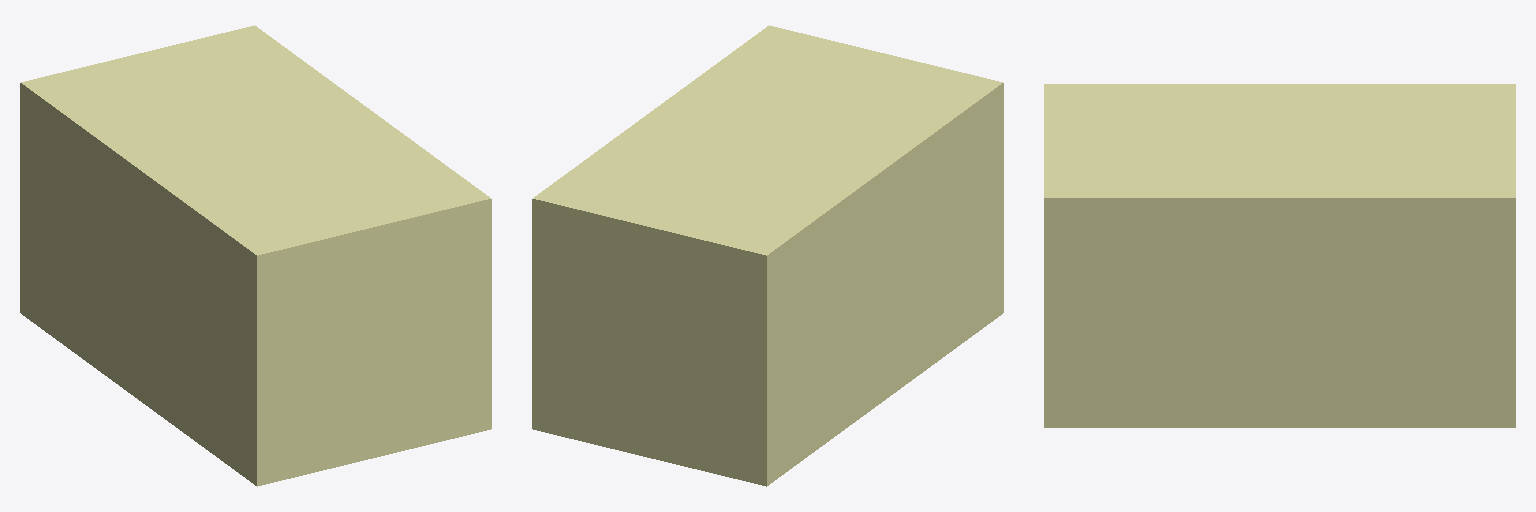
The robot description file, URDF, robot "box.urdf":
<?xml version="1.0" ?>
<robot name="box.urdf">
  <link name="baseLink">
    <contact>
      <lateral_friction value="1.0"/>
      <rolling_friction value="0.0001"/>
      <inertia_scaling value="3.0"/>
    </contact>
    <inertial>
      <origin rpy="0 0 0" xyz="0 0 0"/>
       <mass value="0.1"/>
       <inertia ixx="1" ixy="0" ixz="0" iyy="1" iyz="0" izz="1"/>
    </inertial>
    <visual>
      <origin rpy="0 0 0" xyz="0 0 0"/>
      <geometry>
        <!-- <box size="0.29 0.507 0.273"/> -->
        <mesh filename="box/box.obj" scale="0.29 0.507 0.273"/>
      </geometry>
      <material name="white">
        <color rgba="0.9 0.9 0.7 1"/>
      </material>
    </visual>
    <collision>
      <origin rpy="0 0 0" xyz="0 0 0"/>
      <geometry>
        <mesh filename="box/box.obj" scale="0.29 0.507 0.273"/>
	 	    <!-- <box size="0.29 0.507 0.273"/> -->
      </geometry>
    </collision>
  </link>
</robot>

--- What the picture shows (computed from the rendered views, not written in the file) ---
The picture shows the robot from 3 angles, left to right: view 1: azimuth 30°, elevation 25°; view 2: azimuth 150°, elevation 25°; view 3: azimuth 270°, elevation 25°; orthographic projection.
Model box.urdf with 1 links and 0 joints (none), rooted at baseLink, posed all joints at 0.
Links seen in each view (by area): view 1: baseLink; view 2: baseLink; view 3: baseLink.
Boxes of the visible links, x1=… form: baseLink: x1=20, y1=25, x2=491, y2=486; baseLink: x1=532, y1=25, x2=1003, y2=486; baseLink: x1=1044, y1=84, x2=1515, y2=427.
Size in the robot's own frame: 0.29 by 0.507 by 0.273 metres.
Meshes: 1 distinct files referenced, 1 mesh visuals loaded (1 OBJ).
